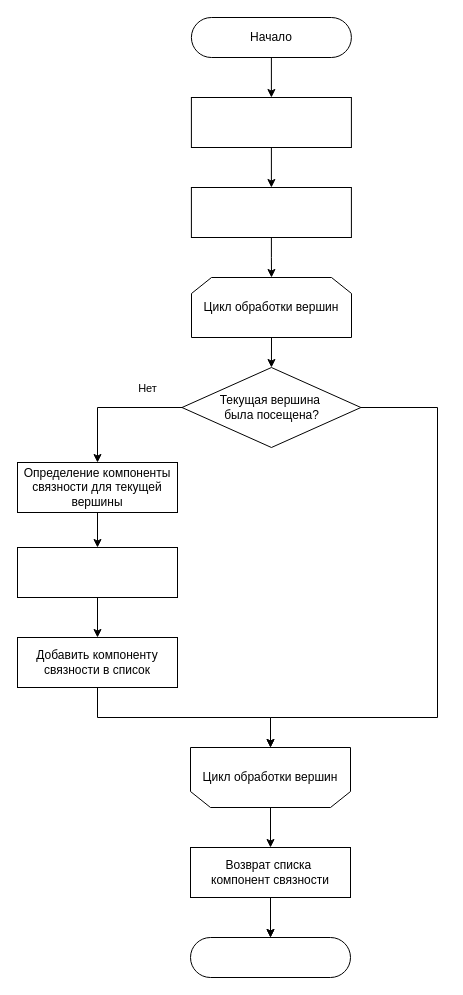
The diagram is 463 pixels wide and 995 high, and some of its shapes have lost their labels. The centre of each missing label's shape, as x and y in pixels:
Конец: pixel 270 957
Отметить все вершины компоненты как посещенные: pixel 97 572
Разориентирование графа: pixel 270 212
Считывание графа из файла: pixel 270 122
